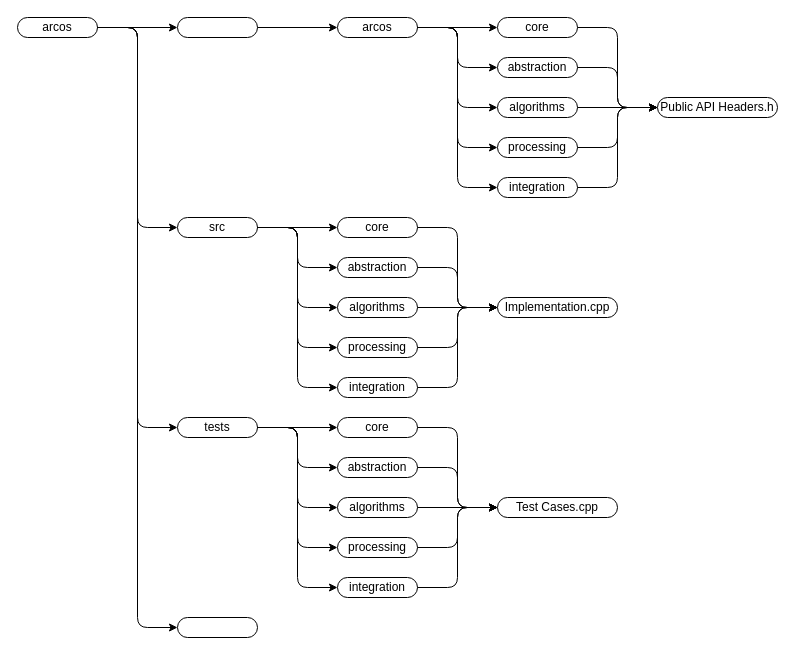
Image size: 795x655. Some labels were removed from this diagram. The box of each missing label's shape, as (x1, y1, x2, y2) in pixels:
include: (176, 16, 258, 38)
make file: (176, 616, 258, 638)
